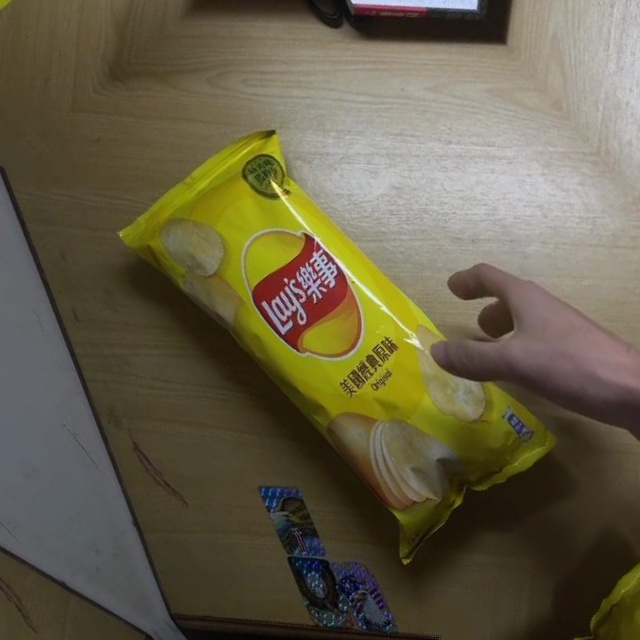Lay-s-original: (115, 99, 562, 576)
